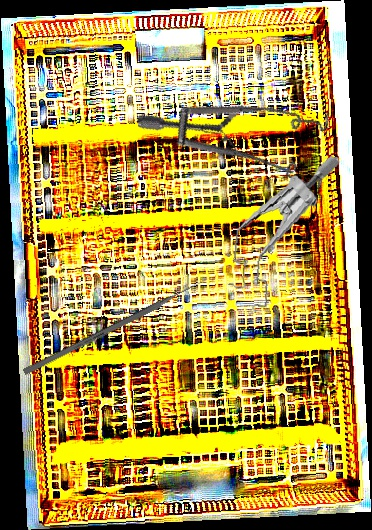Pusher: (22, 275, 211, 376)
Speculum: (134, 58, 352, 238), (224, 145, 341, 322)
